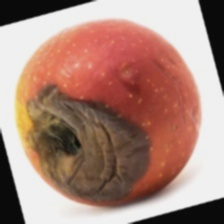apple: (31, 25, 224, 183)
